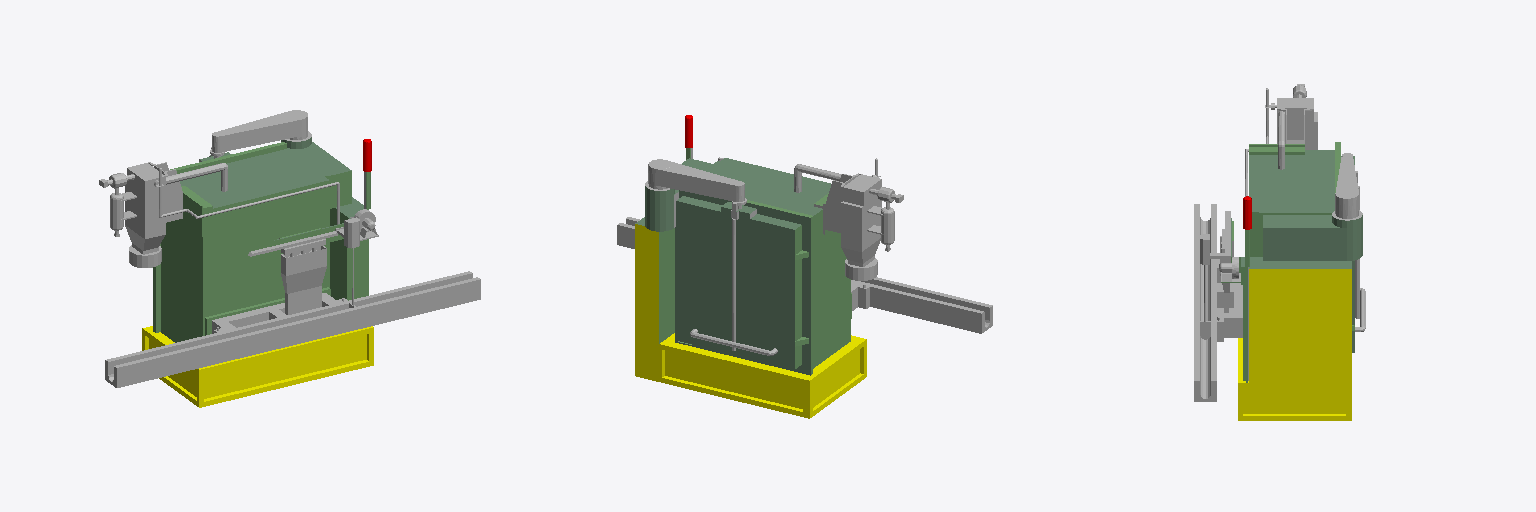
The model's file is SIRDegasser.obj.
3 views of the same model, side by side, from view 1: azimuth 30°, elevation 25°; view 2: azimuth 150°, elevation 25°; view 3: azimuth 270°, elevation 25° (orthographic).
Parts seen in each view (by area): view 1: SIR_DEGASSER; view 2: SIR_DEGASSER; view 3: SIR_DEGASSER.
Part boxes in pixels (x1,y1,x2,y2): SIR_DEGASSER: (99,110,480,407); SIR_DEGASSER: (617,115,992,418); SIR_DEGASSER: (1194,84,1365,420).
Bounding box in the file's own units: 300 × 185 × 122.